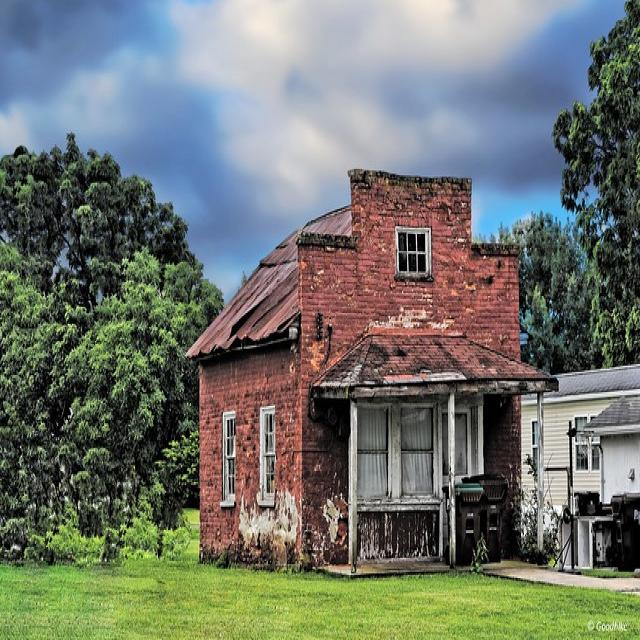Normal_building: (187, 162, 554, 568)
